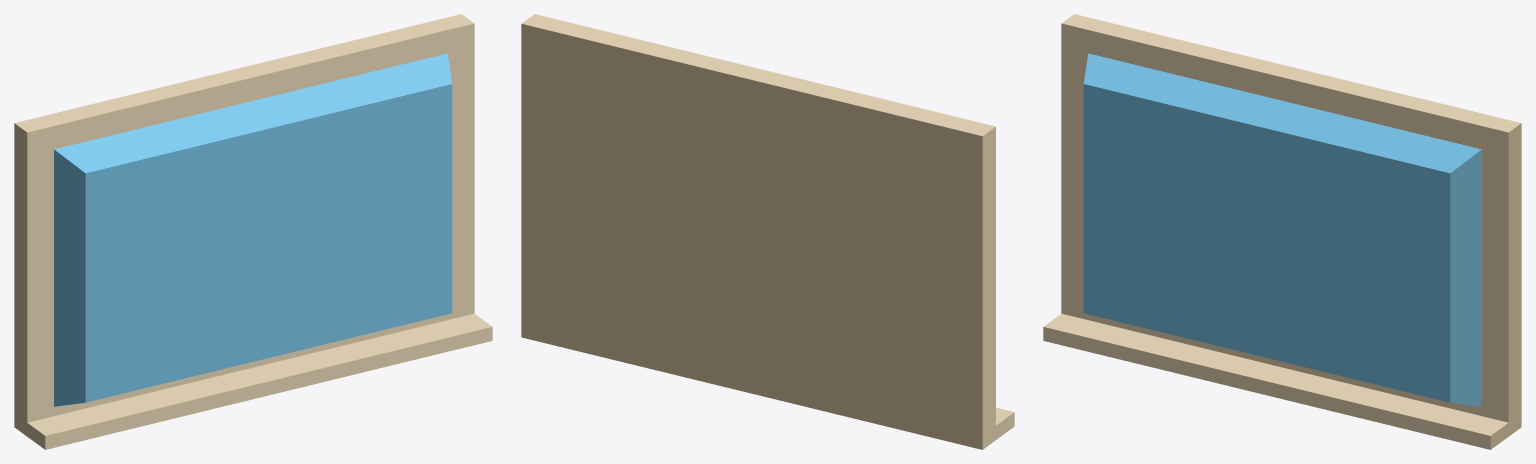
Rendered from paper_button.glb.
3 renders of one model, left to right at view 1: azimuth 30°, elevation 25°; view 2: azimuth 150°, elevation 25°; view 3: azimuth 330°, elevation 25°, orthographic. The views are drawn at different scales.
Visible parts, largest first — view 1: press, card; view 2: card; view 3: press, card.
Boxes of the visible parts, <box> form: press: <box>54,53,452,406</box>; card: <box>14,14,492,449</box>; card: <box>521,14,1014,449</box>; press: <box>1083,53,1481,406</box>; card: <box>1043,14,1521,449</box>.
Size of the model in its own units: 0.1 by 0.065 by 0.012.
